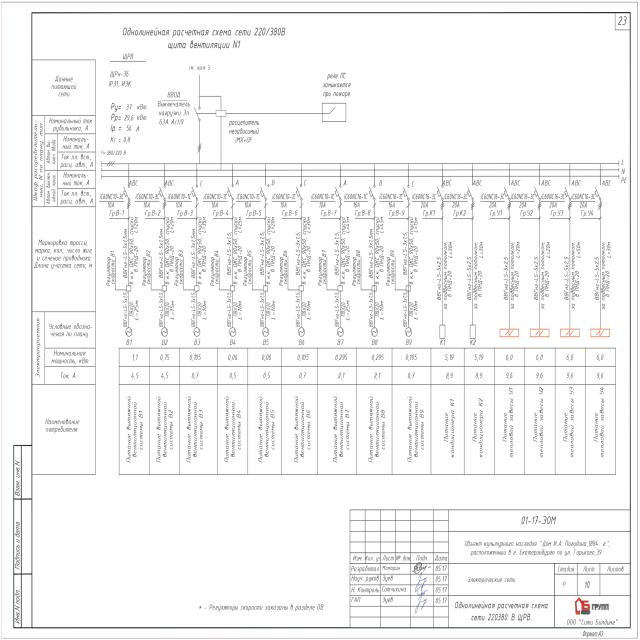-: (156, 90, 192, 127), (228, 118, 260, 145), (107, 69, 134, 88), (540, 192, 566, 210), (479, 192, 505, 210), (378, 192, 404, 210), (412, 192, 438, 210), (167, 192, 193, 210), (99, 192, 125, 209), (310, 192, 336, 209), (272, 193, 298, 210), (443, 192, 469, 209), (511, 193, 536, 210), (344, 192, 369, 209), (136, 192, 162, 208), (235, 192, 261, 208), (570, 192, 596, 208), (202, 192, 228, 208)
ITU: (215, 109, 227, 118)
QF: (294, 183, 303, 201), (334, 184, 343, 201), (594, 184, 602, 202), (402, 183, 410, 201), (368, 184, 376, 202), (191, 183, 199, 201), (260, 184, 268, 201), (122, 183, 130, 200), (158, 184, 166, 201), (436, 183, 444, 200), (466, 183, 474, 200), (503, 183, 511, 200), (532, 183, 540, 200), (564, 183, 572, 200), (226, 184, 234, 201)
QS: (193, 105, 202, 123)
